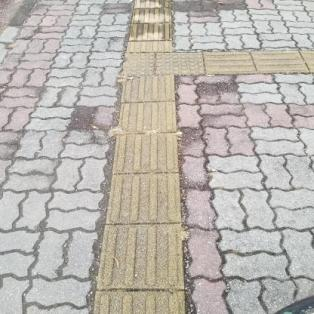Podoctatil: (83, 0, 191, 313), (168, 46, 314, 80)
